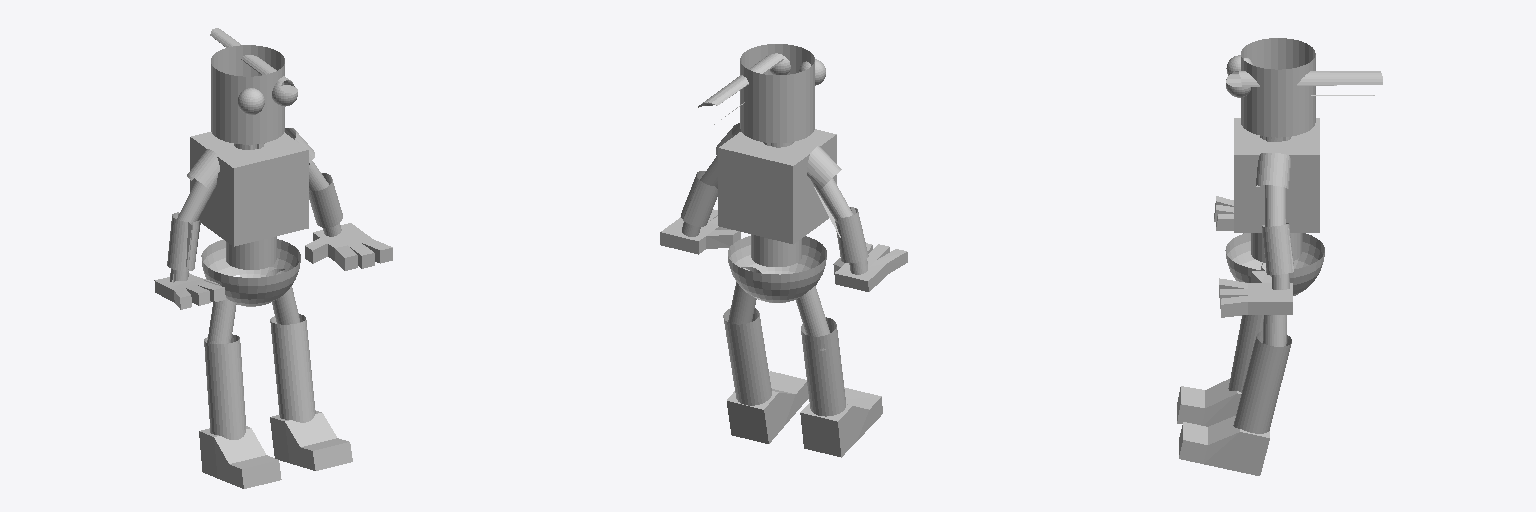
The model's file is mydumbo5.obj.
The picture shows the model from 3 angles: view 1: azimuth 30°, elevation 25°; view 2: azimuth 150°, elevation 25°; view 3: azimuth 270°, elevation 25°; orthographic projection.
Visible parts, largest first — view 1: Circle; view 2: Circle; view 3: Circle.
Boxes of the visible parts, x1,y1,x2,y2 form: Circle: [154, 28, 392, 488]; Circle: [660, 44, 907, 457]; Circle: [1177, 38, 1382, 475].
Size of the model in its own units: 12.87 by 22.61 by 10.67.